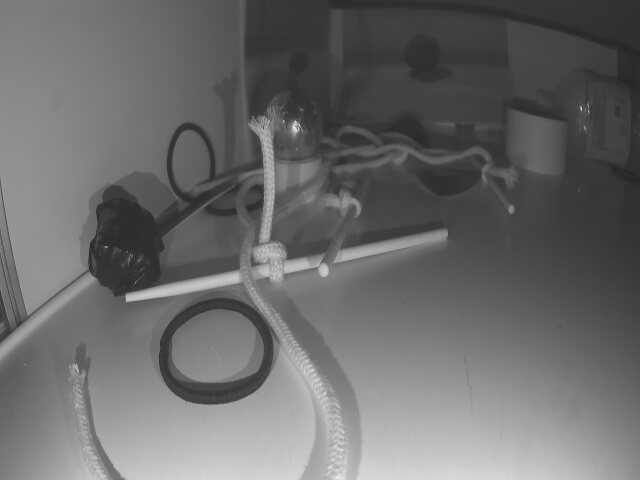Dead: (86, 199, 171, 295)
Live: (261, 95, 321, 157)
